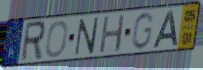A: (151, 9, 179, 50)
G: (130, 11, 156, 51)
H: (98, 13, 127, 55)
N: (73, 16, 100, 57)
O: (44, 19, 70, 59)
R: (19, 20, 47, 64)
